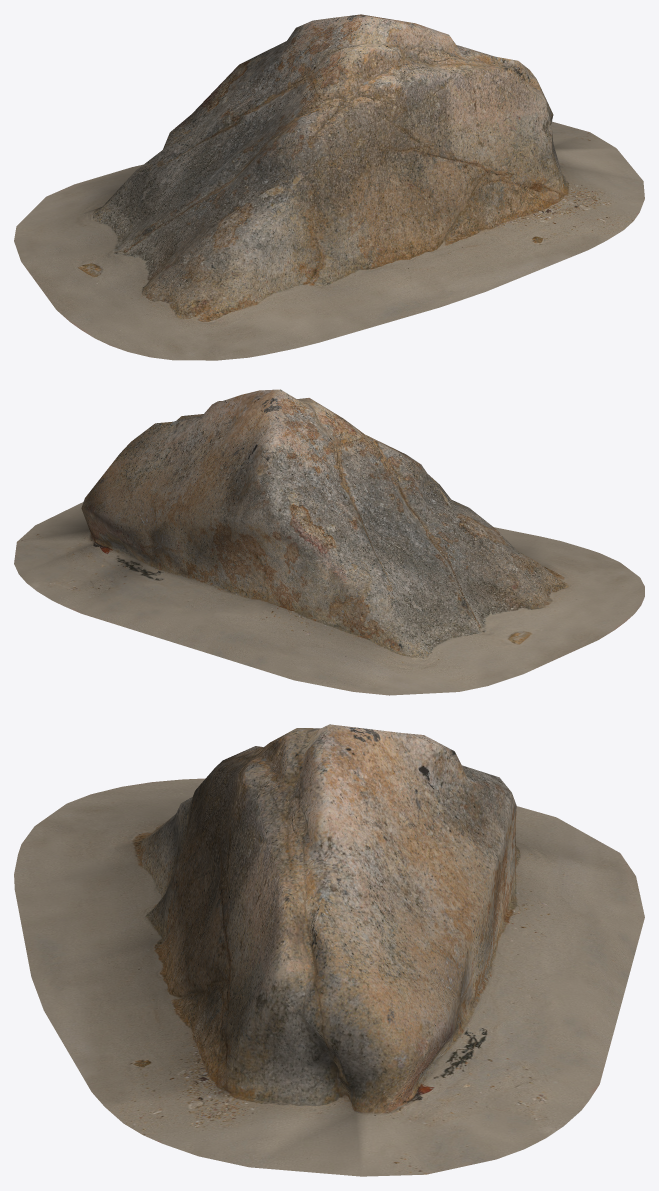
Rendered from thai-beach-rock.glb.
3 renders of one model, top to bottom at view 1: azimuth 30°, elevation 25°; view 2: azimuth 150°, elevation 25°; view 3: azimuth 270°, elevation 25°, orthographic. The views are drawn at different scales.
Visible parts, largest first — view 1: ufltfevga_LOD0_TIER3_000; view 2: ufltfevga_LOD0_TIER3_000; view 3: ufltfevga_LOD0_TIER3_000.
Part boxes in pixels (x1,y1,x2,y2): ufltfevga_LOD0_TIER3_000: (14, 14, 644, 360); ufltfevga_LOD0_TIER3_000: (14, 389, 644, 695); ufltfevga_LOD0_TIER3_000: (14, 724, 644, 1176).
Bounding box in the file's own units: 1.54 × 0.5052 × 1.03.
1 material, 1 textured.
